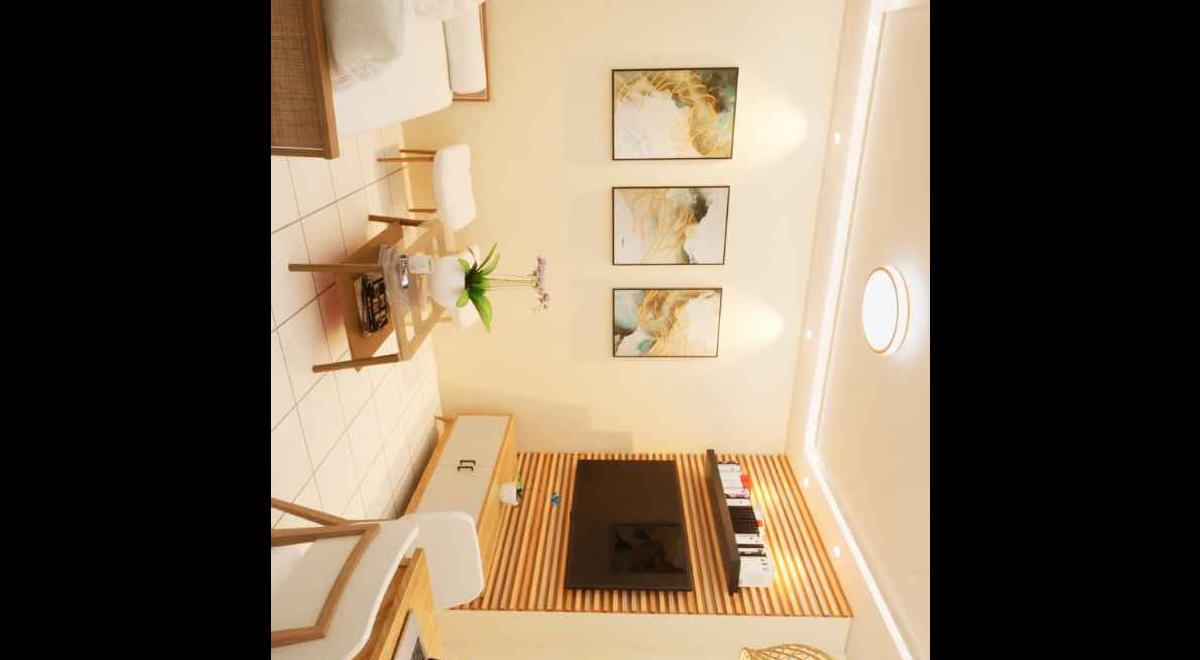controlled_fire: (844, 230, 917, 374)
